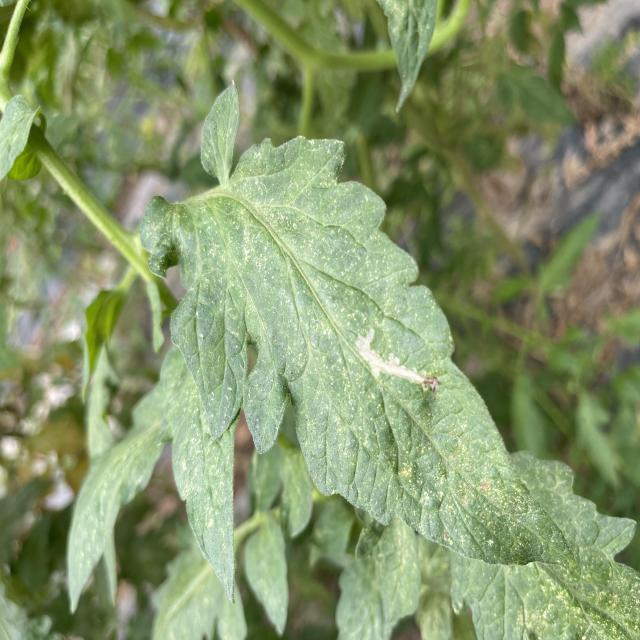Tuta absoluta: (345, 324, 445, 409)
